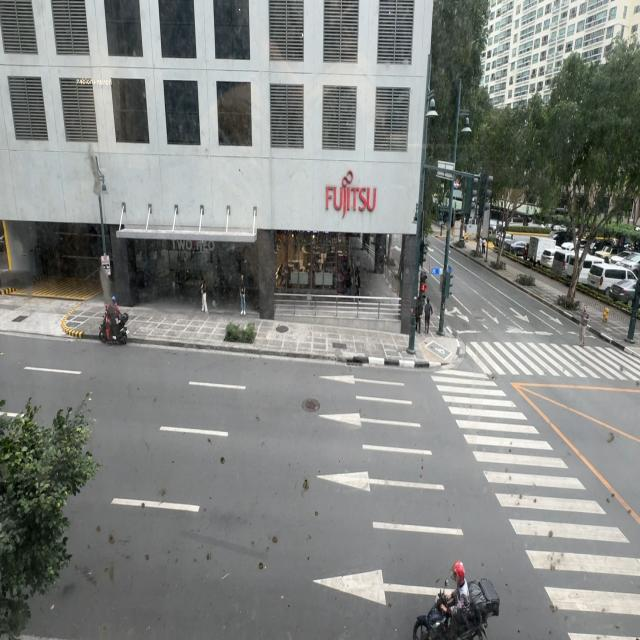crossing: (578, 304, 590, 348)
pedestrain: (424, 298, 433, 334), (415, 295, 423, 333), (240, 273, 247, 316), (200, 276, 208, 312)
